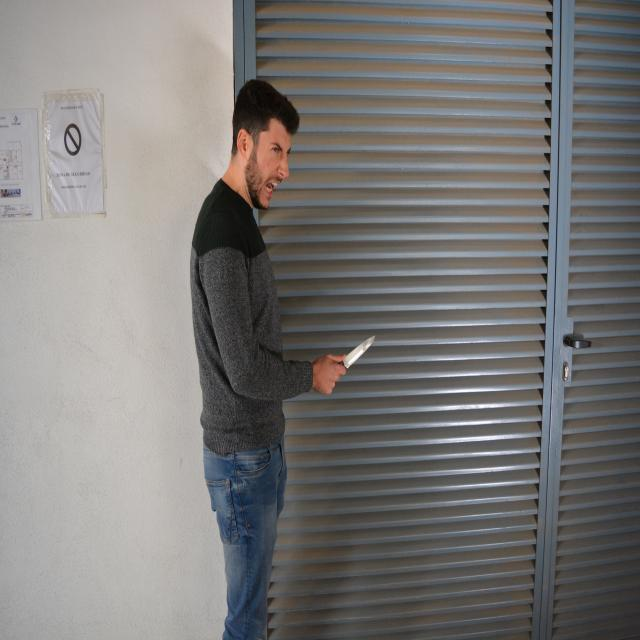knife: (346, 329, 381, 376)
